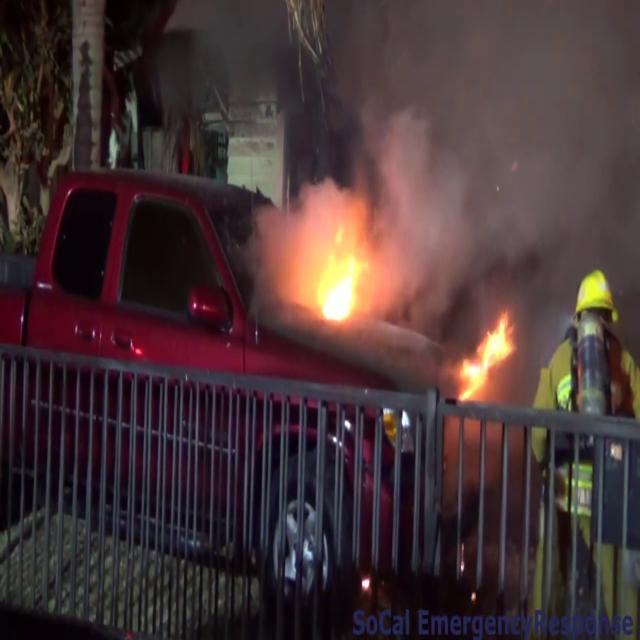Fire: (286, 203, 392, 329), (452, 305, 516, 412)
Smoke: (272, 0, 640, 287)
